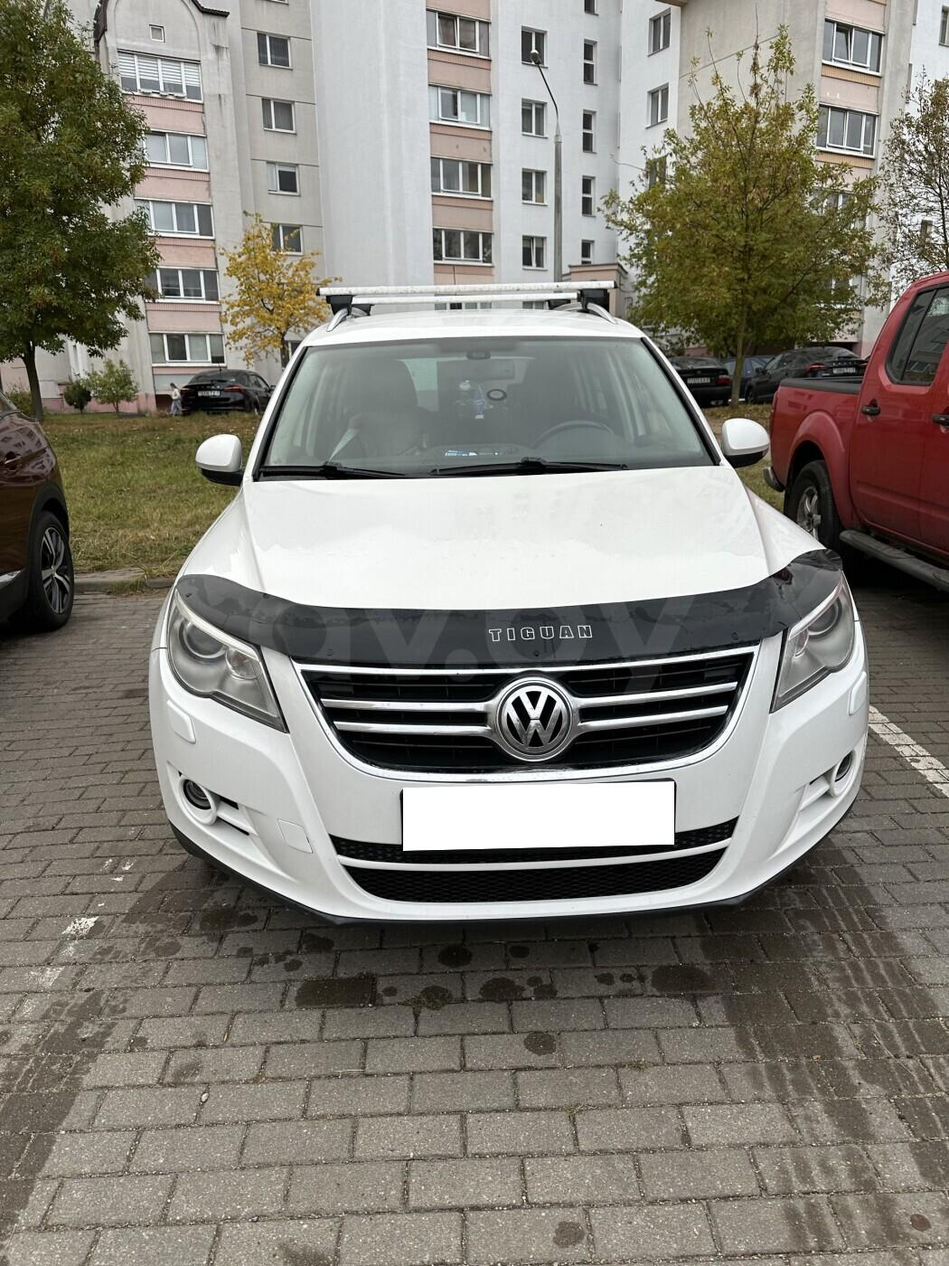Tiguan_2007-2011: (139, 307, 875, 921)
